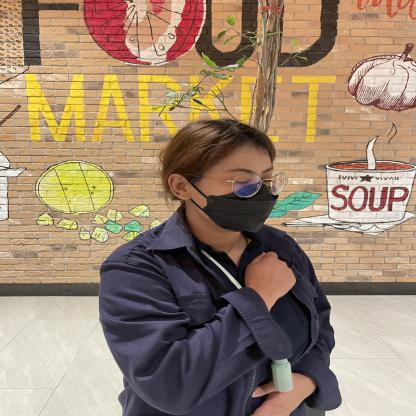Sadness: (97, 242, 334, 402)
